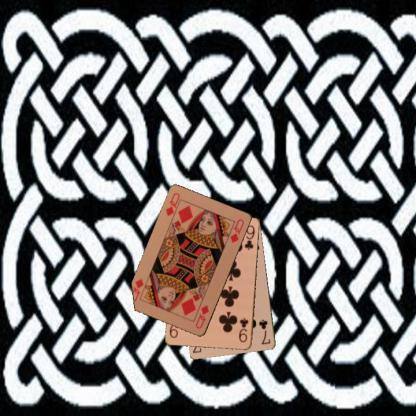7c: (256, 316, 272, 346)
9c: (236, 315, 250, 344)
Qd: (163, 190, 183, 221), (192, 301, 210, 330)
